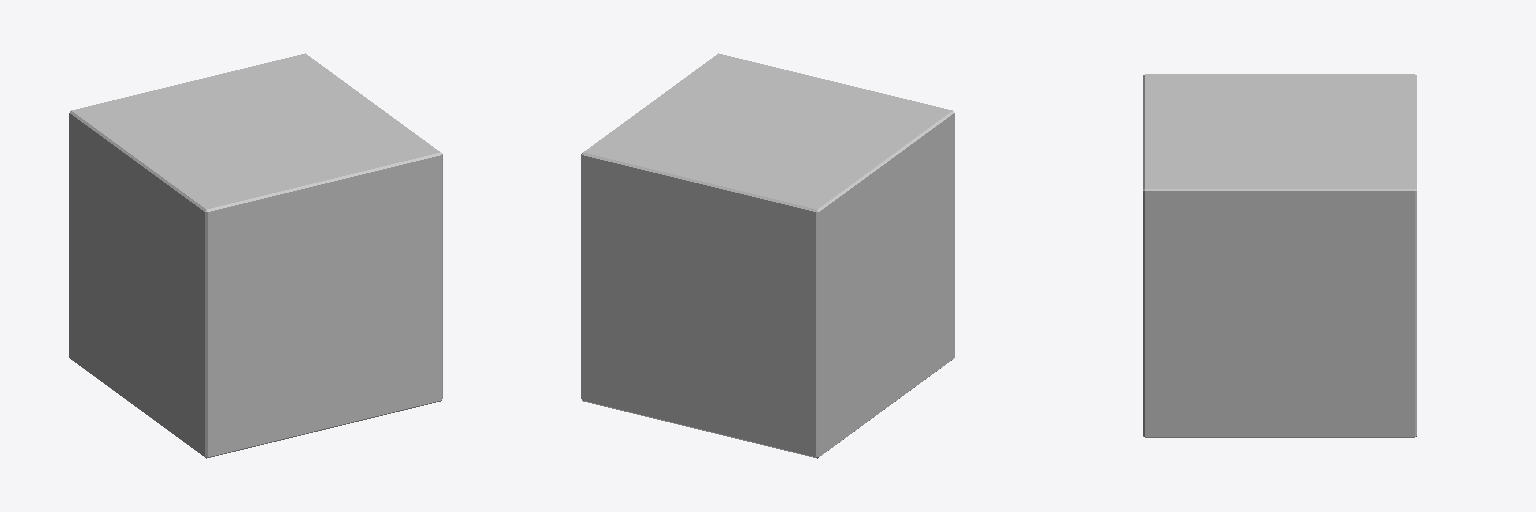
The model's file is crateResampled.obj.
The picture shows the model from 3 angles: view 1: azimuth 30°, elevation 25°; view 2: azimuth 150°, elevation 25°; view 3: azimuth 270°, elevation 25°; orthographic projection.
Bounding box in the file's own units: 1 × 1 × 1.